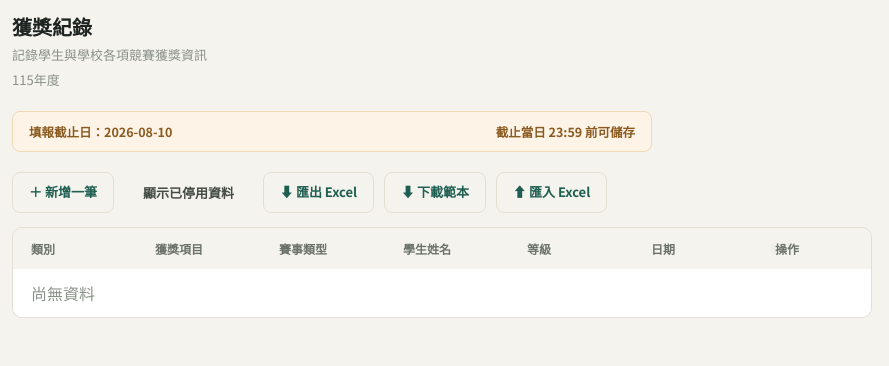
Test: Module deadline › Generic shows a deadline banner, hides write controls, and blocks a retained save once past 填報截止日
Click the button "＋ 新增一筆".
click(63, 192)  # box x1=12 y1=172 x2=114 y2=213
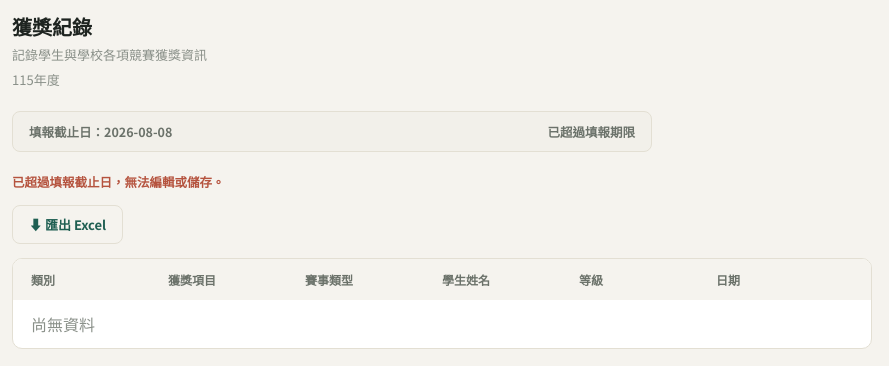
expect the text "已超過填報期限" is shown: met, box x1=548 y1=122 x2=635 y2=141
